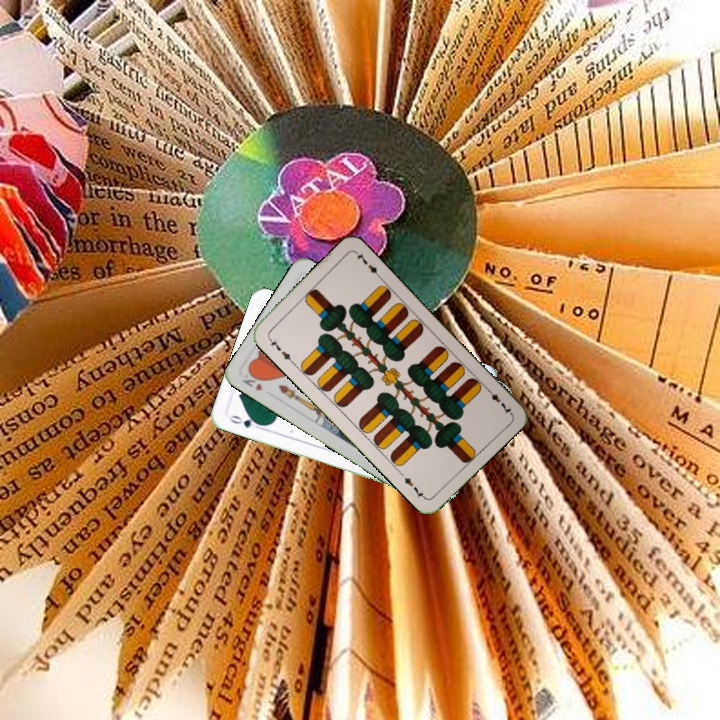E7: (264, 333, 296, 366), (482, 384, 514, 417)
GO: (225, 411, 265, 431)
HK: (238, 368, 267, 394)
